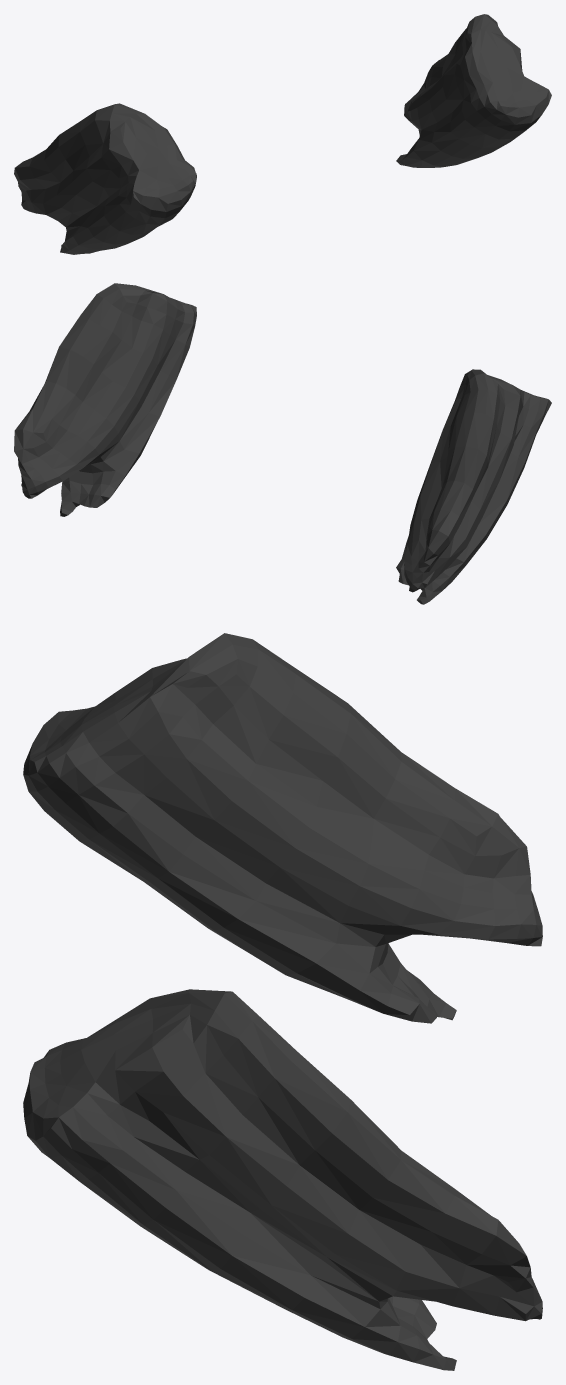
Rendered from L_mand_M3_LO.glb.
3 views of the same model, one above another, from view 1: azimuth 30°, elevation 25°; view 2: azimuth 150°, elevation 25°; view 3: azimuth 270°, elevation 25° (orthographic). The views are drawn at different scales.
Parts seen in each view (by area): view 1: L_mand_M3_LO; view 2: L_mand_M3_LO; view 3: L_mand_M3_LO.
Part boxes in pixels (x1,y1,x2,y2): L_mand_M3_LO: (14, 14, 551, 254); L_mand_M3_LO: (14, 283, 551, 604); L_mand_M3_LO: (23, 633, 542, 1370).
Bounding box in the file's own units: 0.00117 × 0.000491 × 0.000607.
Materials: 1 (1 with a texture image).
